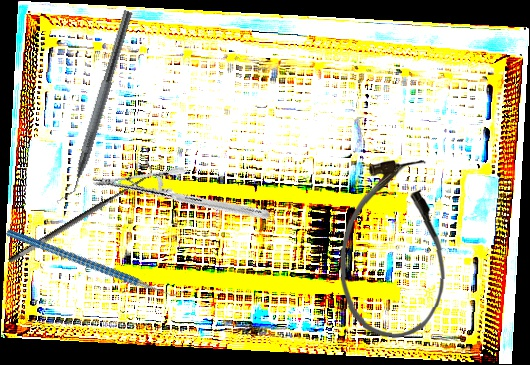Cannula: (337, 157, 450, 341)
Chopper: (4, 176, 191, 349), (54, 5, 134, 210)
Hook Surgical: (0, 158, 161, 266)
Needle Holder: (91, 129, 271, 267)
